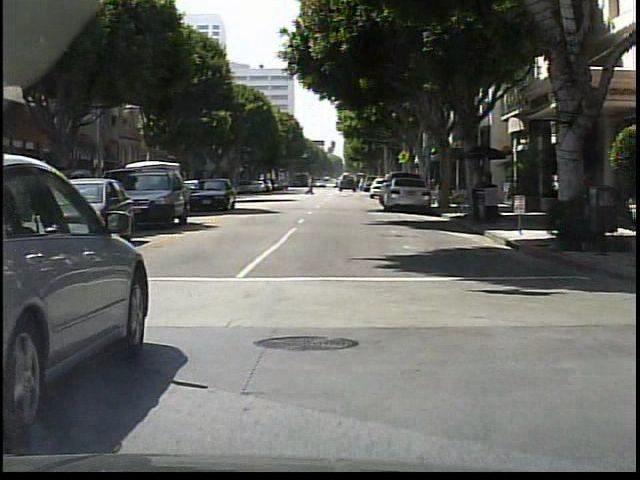person: (576, 167, 593, 238), (474, 165, 492, 222), (307, 177, 317, 197)
